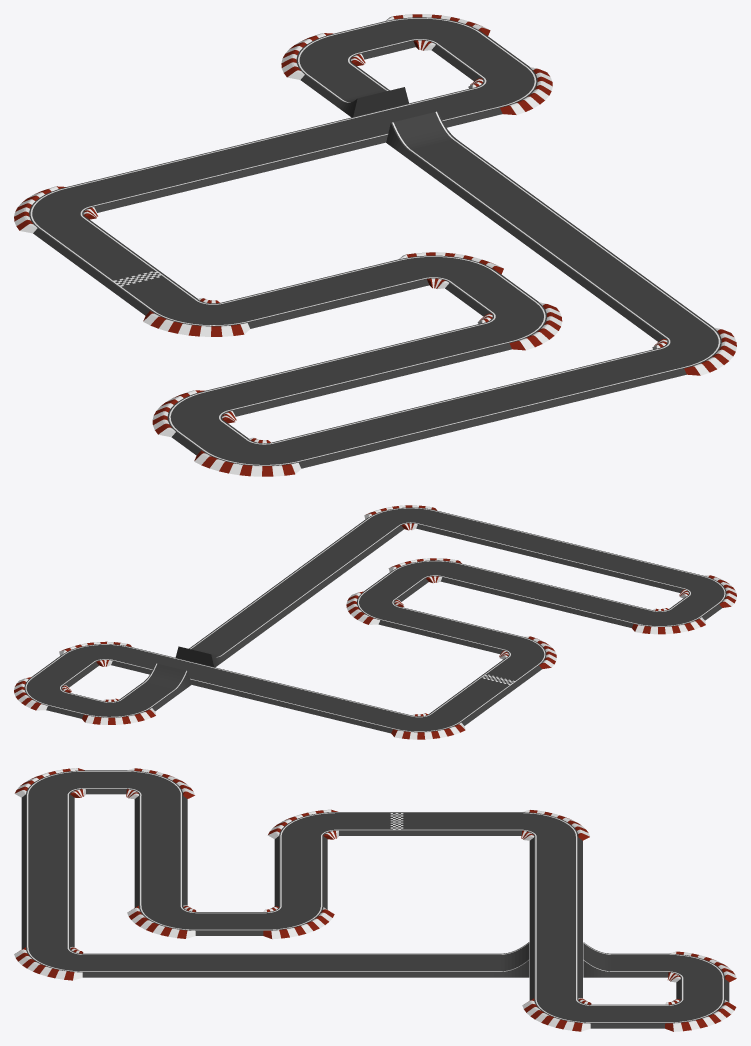
File: Track-03.fbx
3 renders of one model, top to bottom at view 1: azimuth 30°, elevation 25°; view 2: azimuth 150°, elevation 25°; view 3: azimuth 270°, elevation 25°, orthographic. The views are drawn at different scales.
Visible parts, largest first — view 1: Track-03; view 2: Track-03; view 3: Track-03.
Part boxes in pixels (x1,y1,x2,y2): Track-03: [14, 14, 736, 476]; Track-03: [14, 505, 736, 739]; Track-03: [14, 768, 736, 1031].
Size of the model in its own units: 213 by 5.77 by 247.
